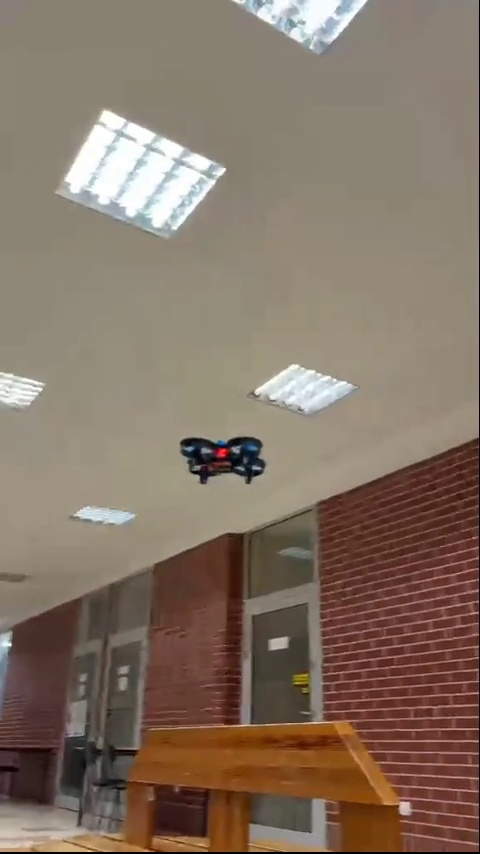drone: (178, 432, 267, 483)
